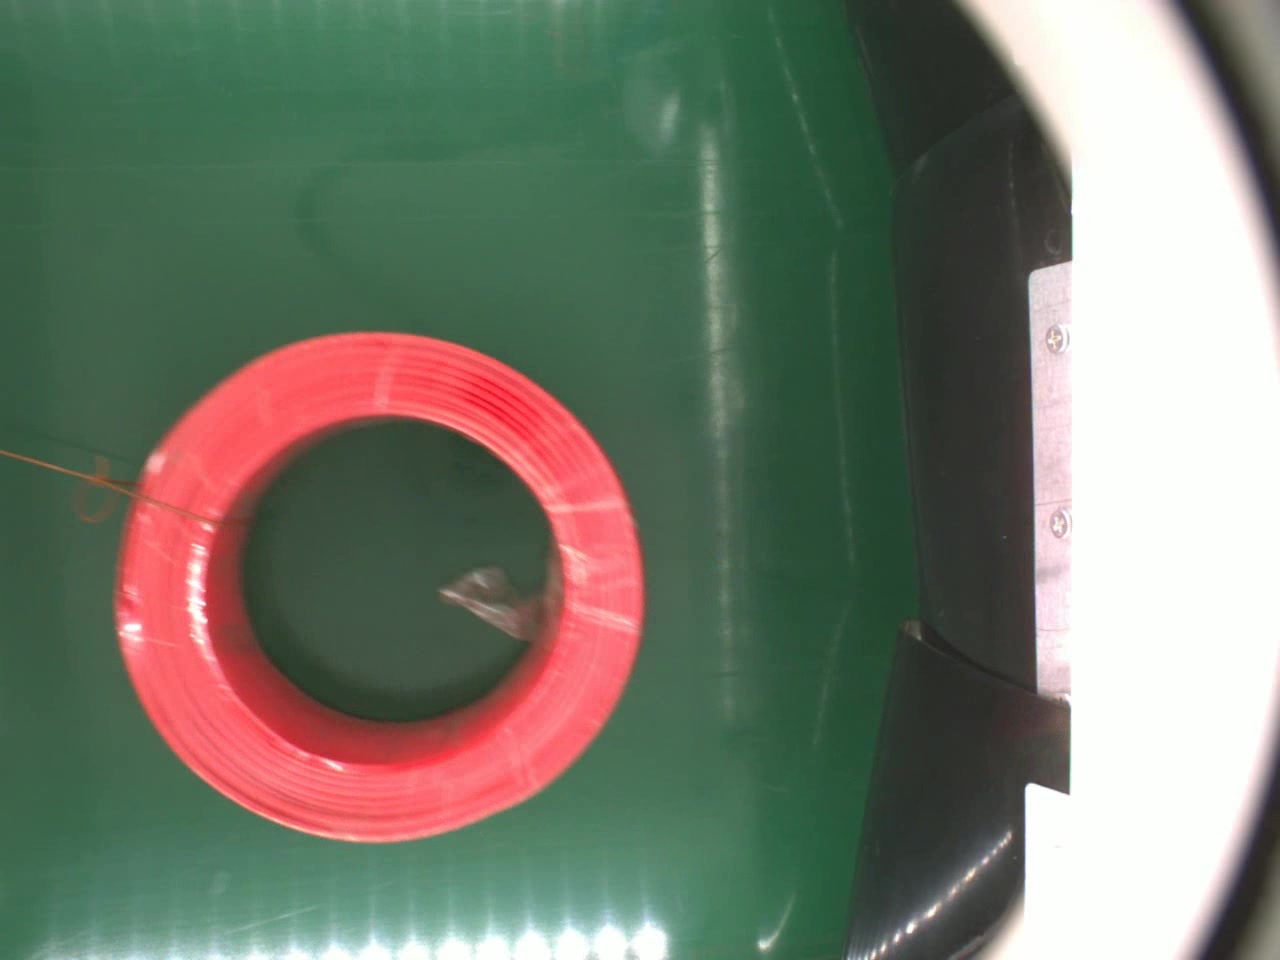red: (110, 329, 648, 844)
